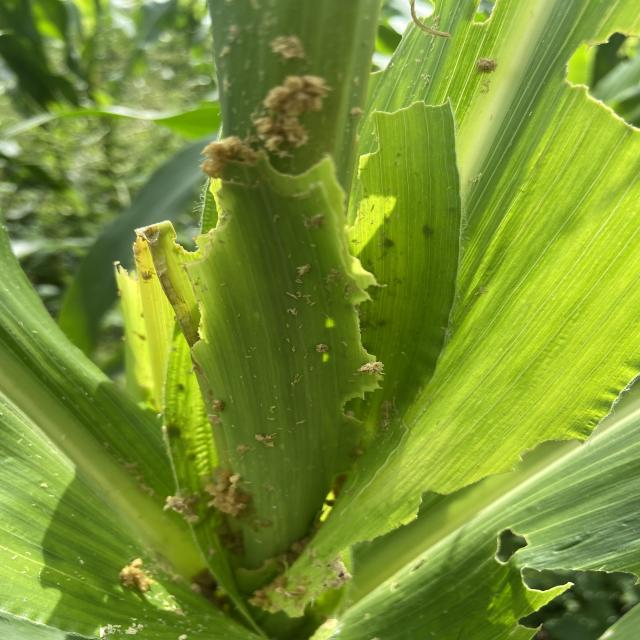fall-armyworm-egg: (72, 431, 304, 640), (196, 6, 350, 203)
fall-armyworm-frass: (249, 211, 340, 386)
fall-armyworm-larval-damage: (77, 155, 250, 318), (231, 82, 470, 199), (458, 509, 640, 640), (322, 250, 425, 460), (306, 470, 462, 598), (522, 18, 640, 153), (423, 0, 496, 44)
